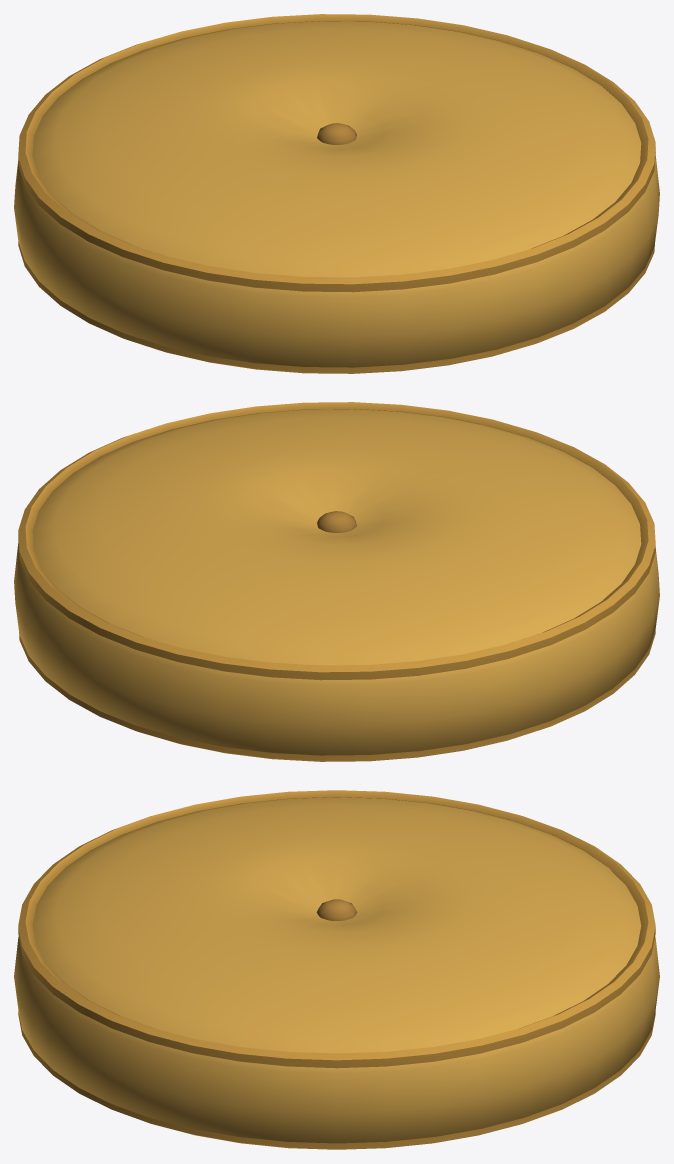
Rendered from floorCushion.glb.
3 renders of one model, top to bottom at view 1: azimuth 30°, elevation 25°; view 2: azimuth 150°, elevation 25°; view 3: azimuth 270°, elevation 25°, orthographic.
Parts seen in each view (by area): view 1: seat; view 2: seat; view 3: seat.
Boxes of the visible parts, x1,y1,x2,y2 form: seat: (14, 14, 659, 373); seat: (14, 402, 659, 761); seat: (14, 790, 659, 1149).
Bounding box in the file's own units: 0.62 × 0.1368 × 0.62.
